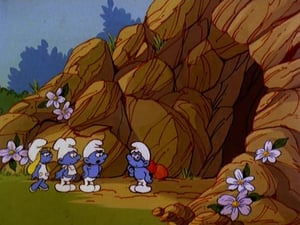smurf: (123, 140, 155, 194), (24, 137, 54, 193), (52, 136, 81, 192), (79, 138, 107, 193)
